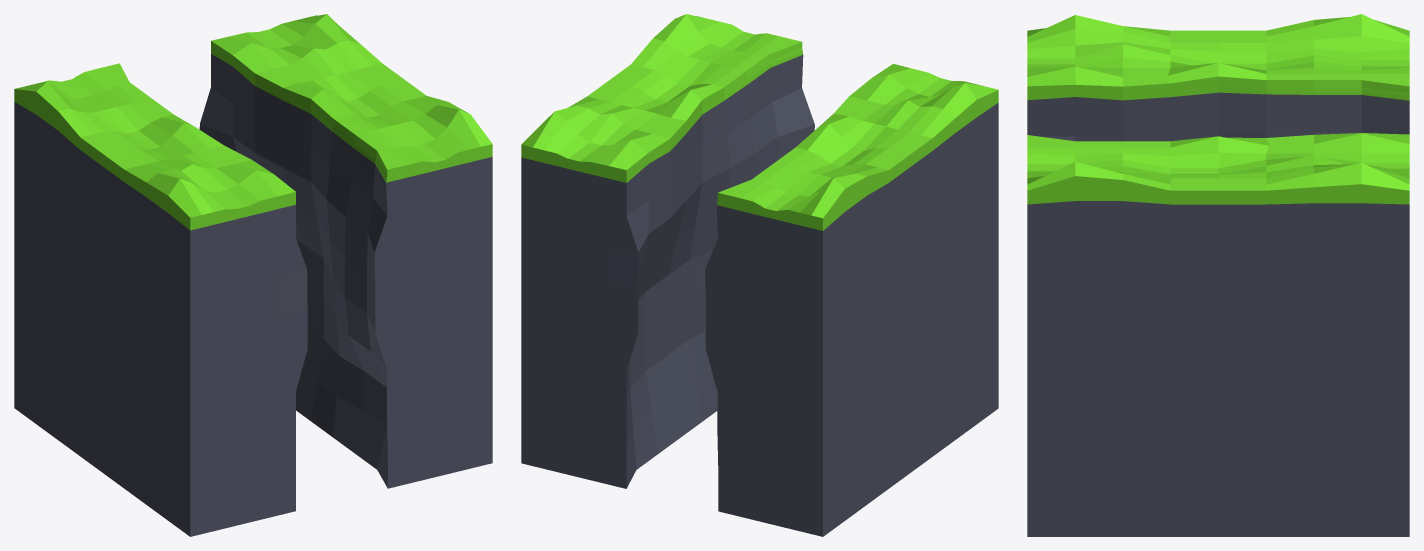
The model's file is WallBlockSet.dae.
3 views of the same model, side by side, from view 1: azimuth 30°, elevation 25°; view 2: azimuth 150°, elevation 25°; view 3: azimuth 270°, elevation 25° (orthographic). The views are drawn at different scales.
Visible parts, largest first — view 1: WallBlockSet; view 2: WallBlockSet; view 3: WallBlockSet.
Part boxes in pixels (left/top/right/bottom): WallBlockSet: left=14, top=14, right=492, bottom=536; WallBlockSet: left=521, top=14, right=998, bottom=536; WallBlockSet: left=1027, top=14, right=1409, bottom=536.
Size of the model in its own units: 154 by 166 by 155.
